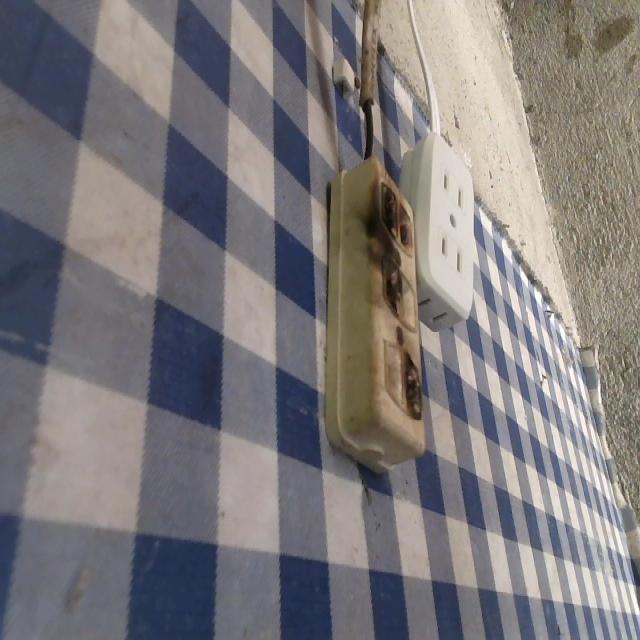-: (370, 164, 422, 252), (394, 347, 432, 425), (370, 252, 411, 323)
